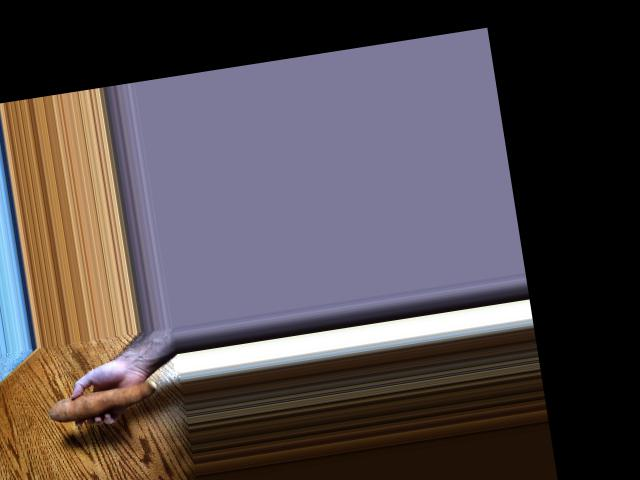sweet_potato: (42, 382, 156, 432)
